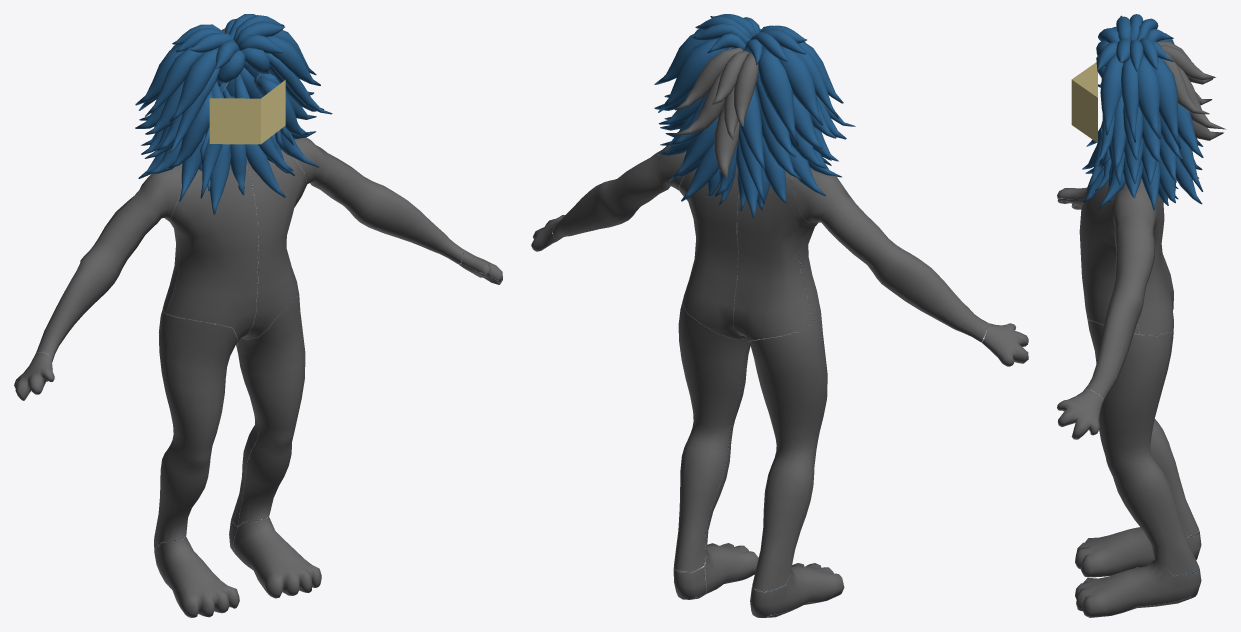
The model's file is F_Fox.fbx.
3 renders of one model, left to right at view 1: azimuth 30°, elevation 25°; view 2: azimuth 150°, elevation 25°; view 3: azimuth 270°, elevation 25°, orthographic. The views are drawn at different scales.
Visible parts, largest first — view 1: F_Fox; view 2: F_Fox; view 3: F_Fox.
Part boxes in pixels (left/top/right/bottom): F_Fox: left=14, top=14, right=502, bottom=617; F_Fox: left=531, top=14, right=1028, bottom=617; F_Fox: left=1057, top=14, right=1226, bottom=617.
Bounding box in the file's own units: 174 × 194 × 53.29.
1 material, 1 textured.
